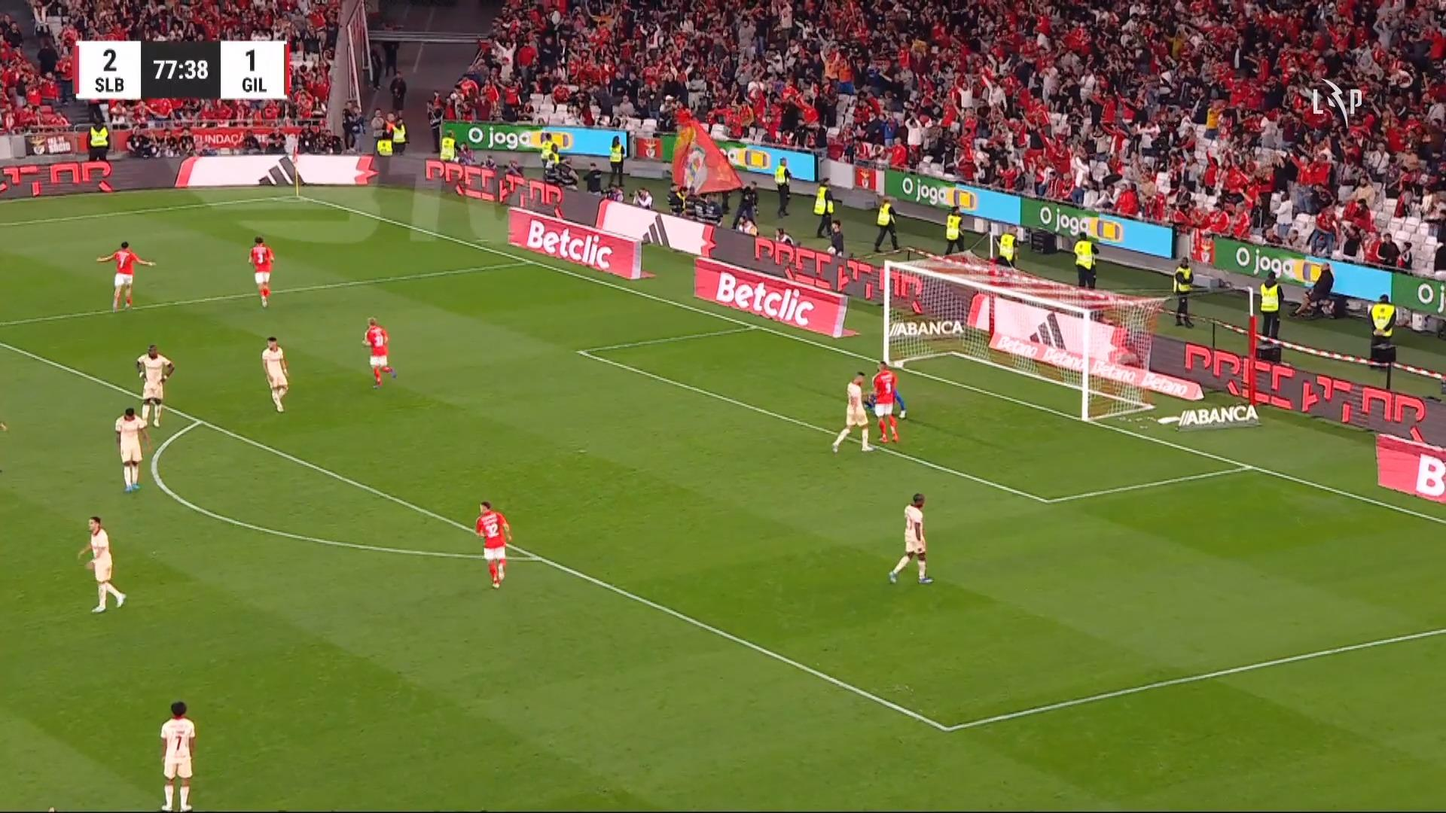ball: (892, 357, 904, 370)
player: (76, 515, 126, 613), (95, 239, 155, 312), (887, 492, 933, 584), (159, 700, 196, 811), (830, 370, 875, 453), (474, 500, 512, 589), (136, 343, 174, 428), (114, 406, 149, 492), (361, 316, 397, 388), (871, 359, 901, 443), (261, 335, 290, 413), (247, 236, 275, 308)
